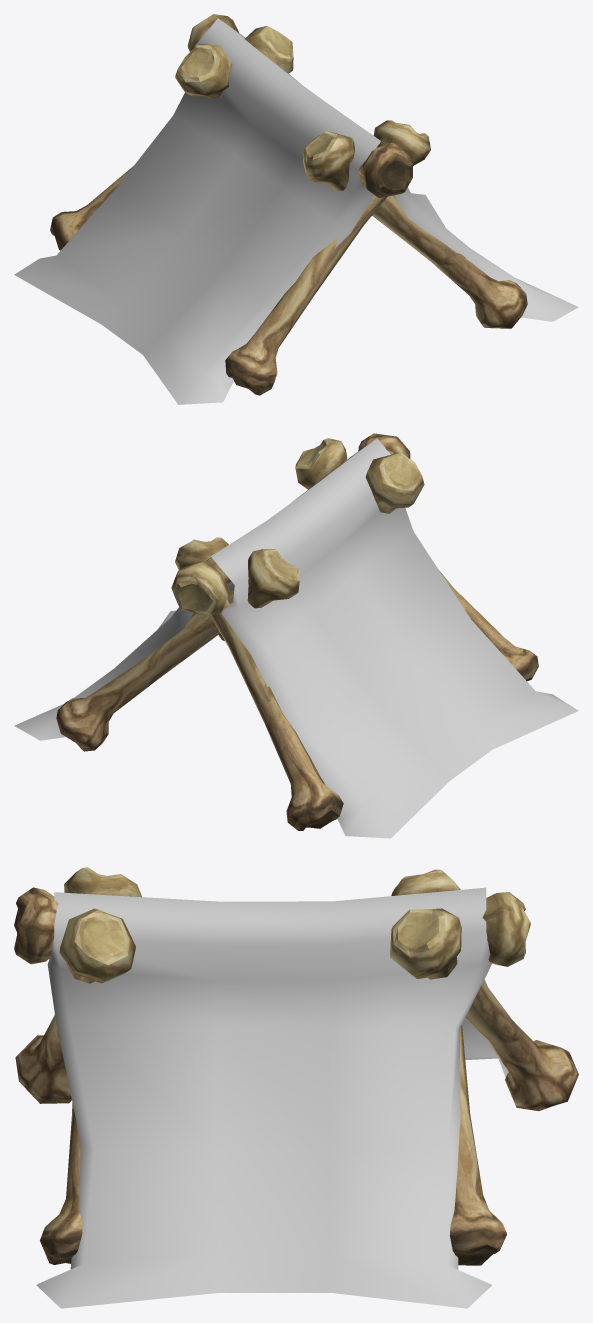
Rendered from small tent.FBX.
3 renders of one model, top to bottom at view 1: azimuth 30°, elevation 25°; view 2: azimuth 150°, elevation 25°; view 3: azimuth 270°, elevation 25°, orthographic. The views are drawn at different scales.
Visible parts, largest first — view 1: small tent; view 2: small tent; view 3: small tent.
Part boxes in pixels (left/top/right/bottom): small tent: left=14, top=14, right=578, bottom=404; small tent: left=14, top=433, right=578, bottom=838; small tent: left=14, top=867, right=578, bottom=1308.
Size of the model in its own units: 4.91 by 2.67 by 4.53.
